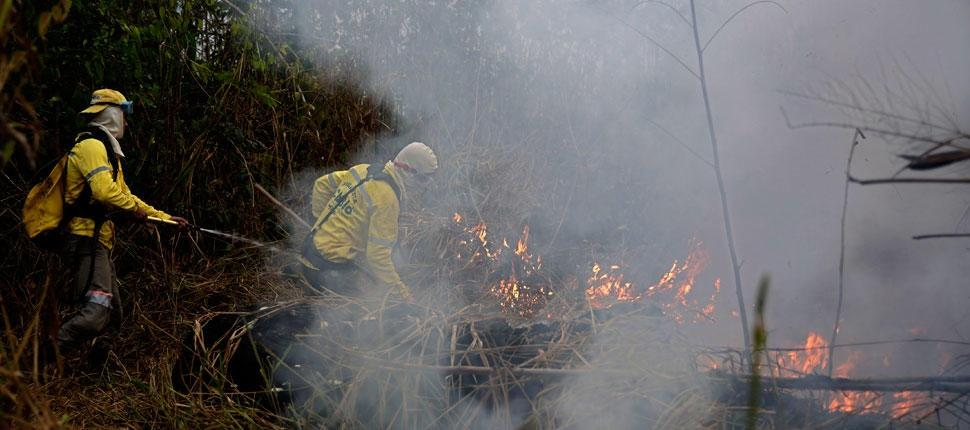victim: (19, 88, 196, 376), (304, 133, 437, 326)
